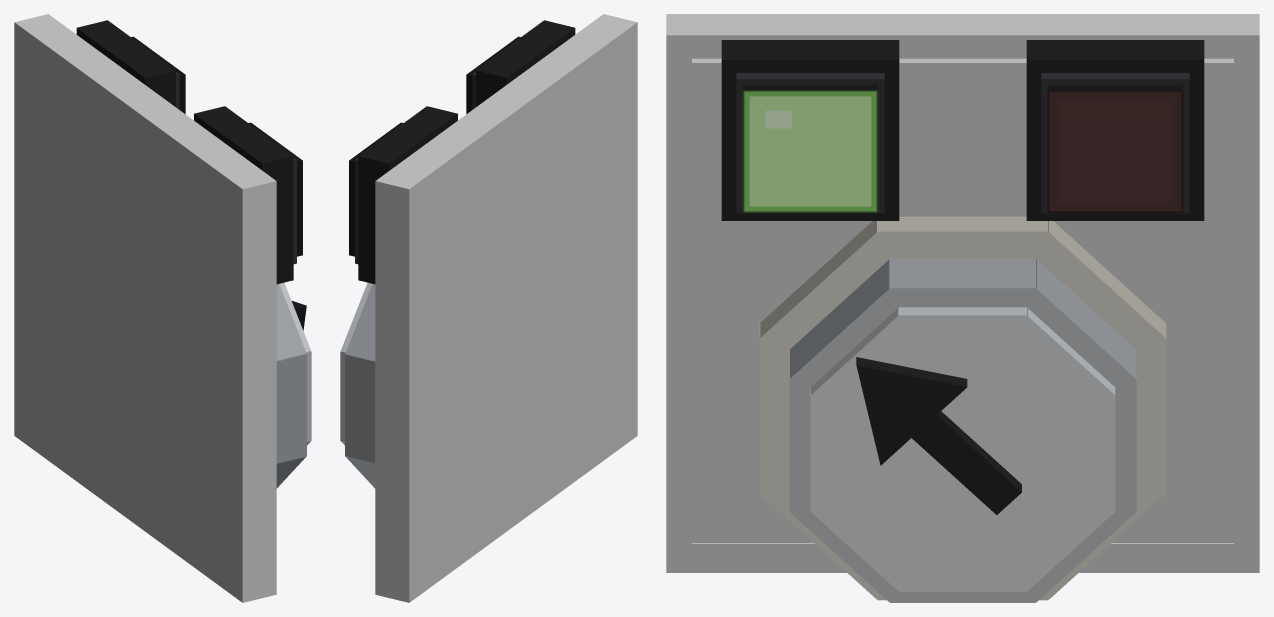
Rendered from knob_switch_surface.obj.
3 views of the same model, side by side, from view 1: azimuth 30°, elevation 25°; view 2: azimuth 150°, elevation 25°; view 3: azimuth 270°, elevation 25° (orthographic). The views are drawn at different scales.
Visible parts, largest first — view 1: Panel, LampGreen, Knob, LampRed; view 2: Panel, LampRed, Knob, LampGreen; view 3: Panel, Knob, LampGreen, LampRed.
Part boxes in pixels (x1,y1,x2,y2): Panel: [14, 14, 276, 602]; LampGreen: [194, 106, 302, 284]; Knob: [276, 282, 311, 488]; LampRed: [76, 20, 185, 113]; Panel: [375, 14, 637, 602]; LampRed: [349, 106, 457, 284]; Knob: [340, 282, 375, 488]; LampGreen: [466, 20, 575, 113]; Panel: [666, 14, 1259, 572]; Knob: [759, 216, 1166, 602]; LampGreen: [721, 40, 899, 220]; LampRed: [1026, 40, 1204, 220].
Bounding box in the file's own units: 0.3038 × 0.8875 × 0.875.
